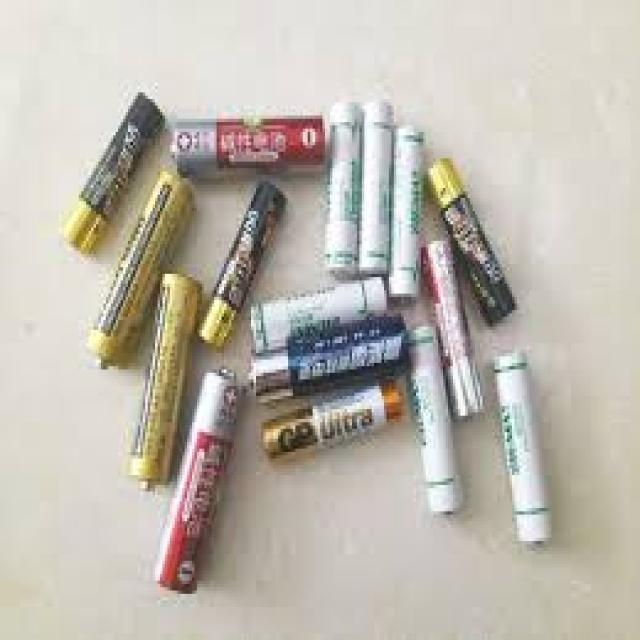Battery: (73, 152, 210, 391), (149, 363, 252, 601), (52, 77, 174, 274), (120, 262, 207, 499), (420, 149, 527, 329), (197, 171, 298, 353), (488, 333, 566, 556), (420, 230, 495, 424), (246, 315, 410, 403), (411, 317, 474, 523), (166, 107, 335, 179), (250, 272, 392, 354), (311, 85, 368, 283), (380, 100, 425, 300), (353, 87, 399, 278)
